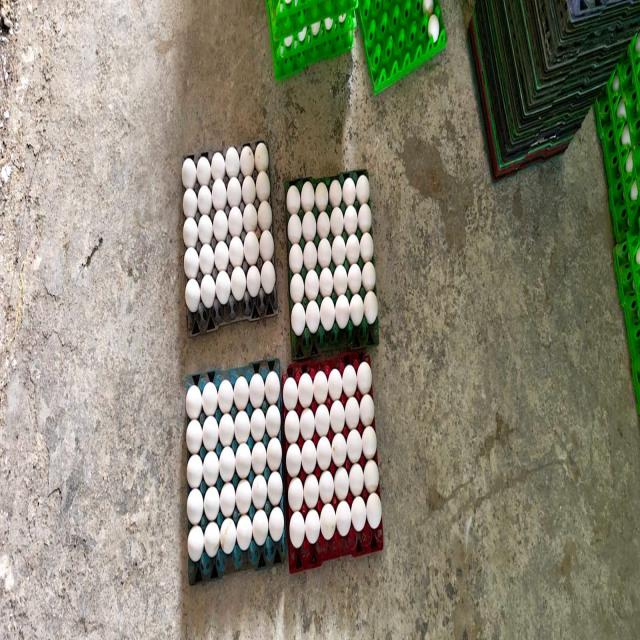egg_tray: (186, 360, 286, 582), (282, 353, 383, 572), (182, 141, 277, 333), (286, 172, 378, 358), (468, 16, 568, 180), (594, 36, 640, 243), (358, 0, 446, 92), (594, 72, 640, 243), (267, 0, 356, 79), (605, 61, 640, 210), (614, 234, 640, 412), (274, 10, 355, 62), (271, 29, 354, 79), (267, 0, 357, 40), (613, 235, 640, 333), (614, 231, 640, 322), (618, 34, 640, 140), (629, 332, 640, 346), (632, 348, 640, 367), (634, 352, 640, 363), (610, 91, 618, 99), (633, 335, 640, 341), (633, 214, 636, 219), (631, 182, 633, 187), (611, 86, 614, 88), (618, 103, 619, 108), (634, 381, 635, 383), (638, 326, 640, 327), (619, 78, 621, 79), (634, 332, 634, 332), (612, 82, 612, 84), (625, 74, 626, 74)
